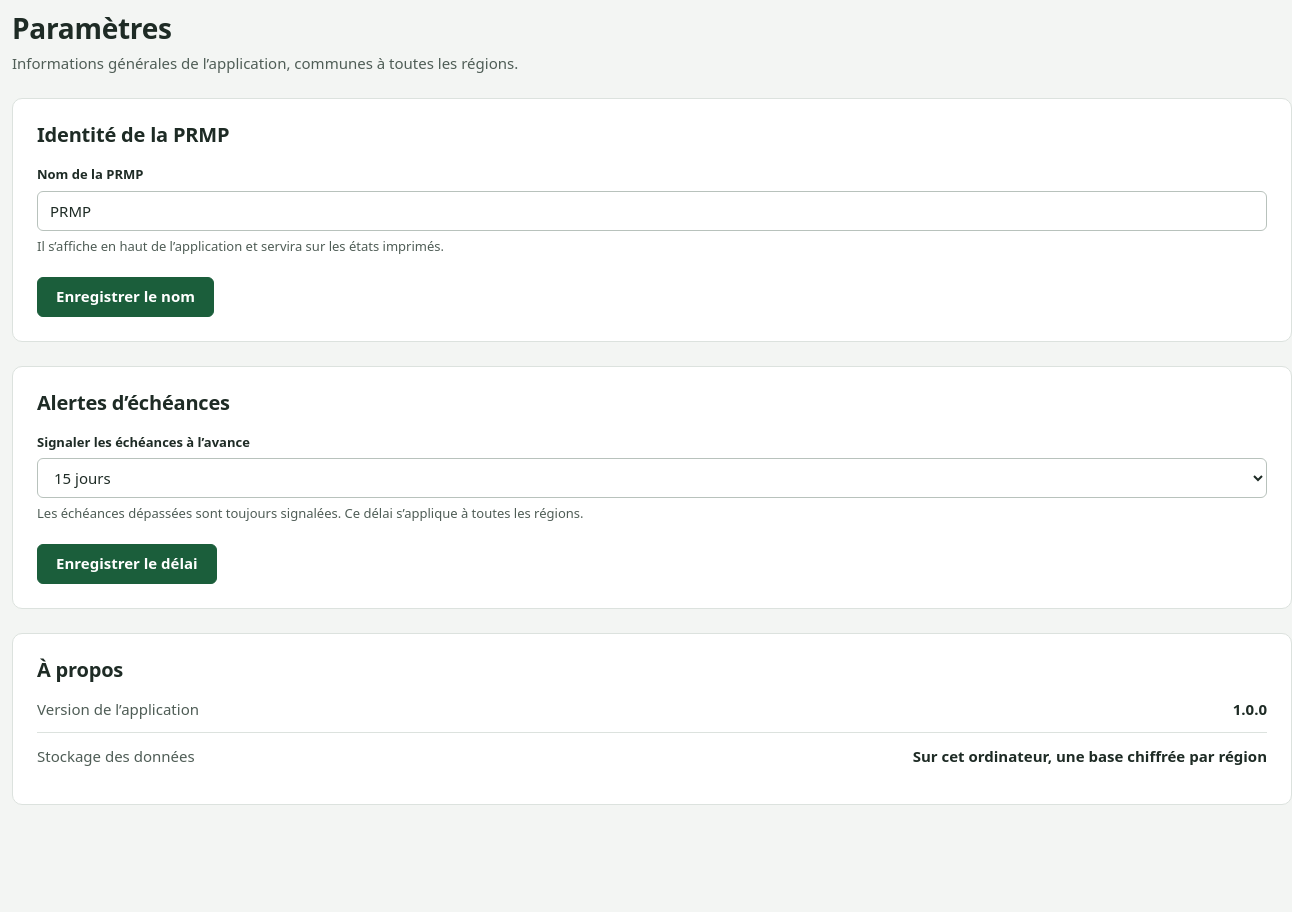
réglage du délai (écran des paramètres) › affiche l’erreur sans rien confirmer
Click the button "Enregistrer le délai" at (127,564), box [37,544,217,584]
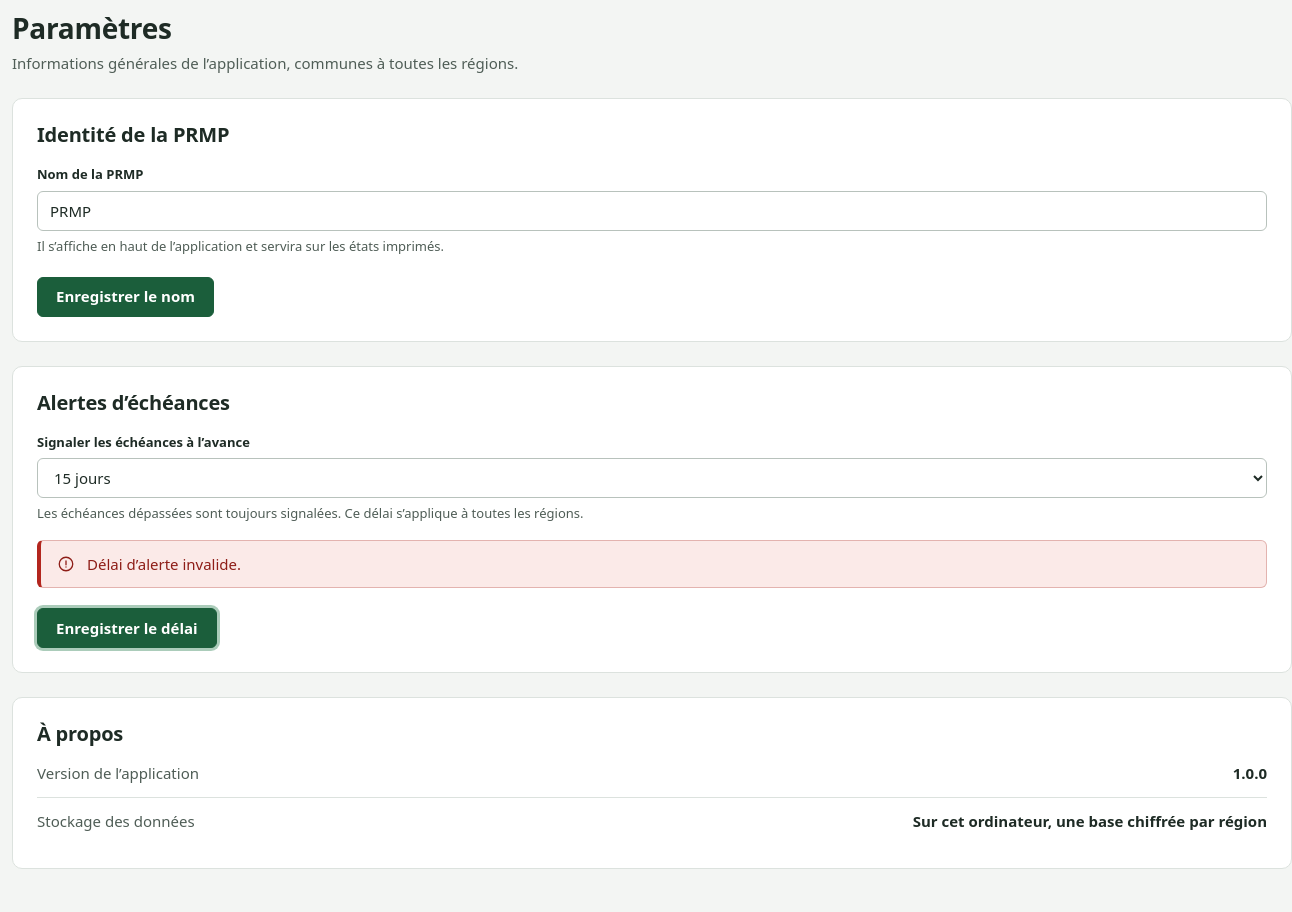
Expected: the message shows "Délai d’alerte invalide", [87,554,241,574]
